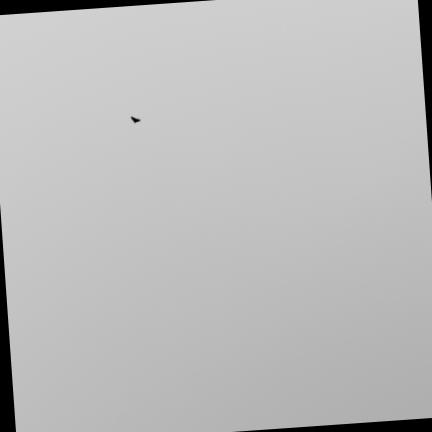Shahed: (130, 117, 138, 122)
